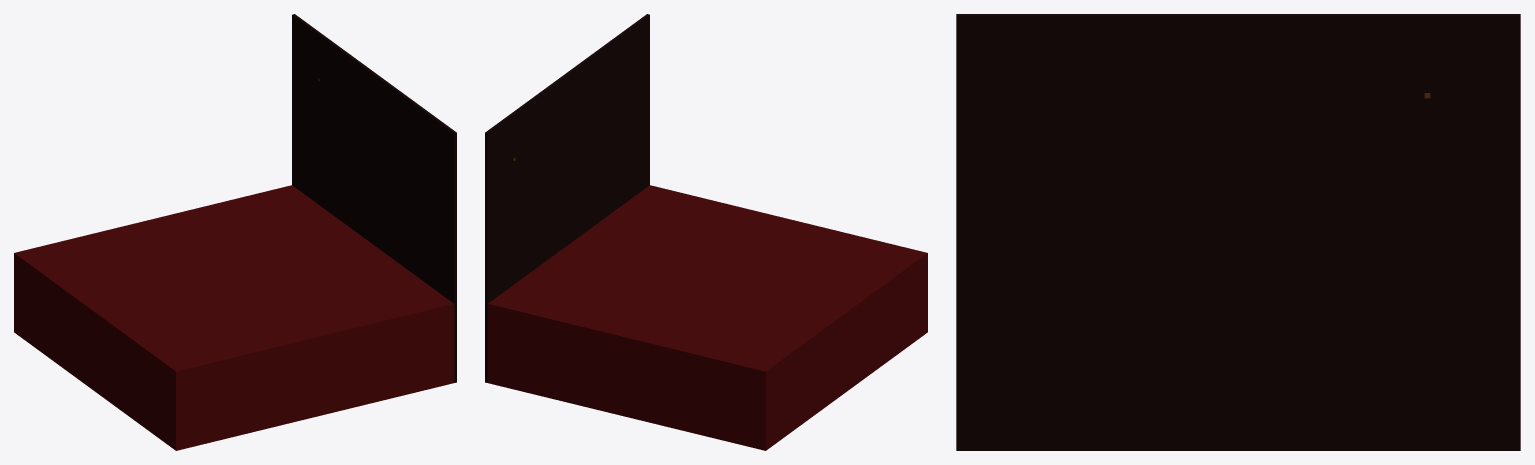
The model's file is Ground_Buffer_Wall.obj.
3 views of the same model, side by side, from view 1: azimuth 30°, elevation 25°; view 2: azimuth 150°, elevation 25°; view 3: azimuth 270°, elevation 25° (orthographic). The views are drawn at different scales.
Parts seen in each view (by area): view 1: Ground_Buffer_Blank; view 2: Ground_Buffer_Blank; view 3: Ground_Buffer_Blank.
Boxes of the visible parts, x1=… form: Ground_Buffer_Blank: x1=14, y1=14, x2=456, y2=450; Ground_Buffer_Blank: x1=485, y1=14, x2=927, y2=450; Ground_Buffer_Blank: x1=956, y1=14, x2=1520, y2=450.
Bounding box in the file's own units: 100 × 85 × 100.
Materials: 1 (1 with a texture image).
